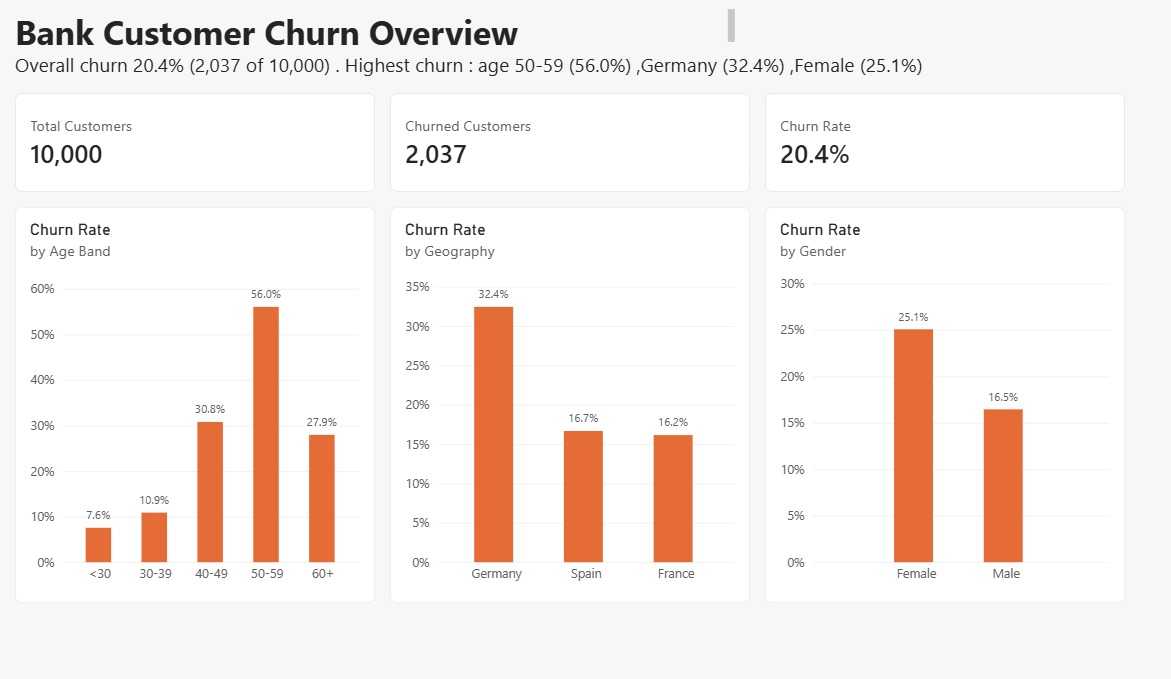

What the dashboard file says about the page in this screenshot:
{"tool":"powerbi","page":{"name":"Page 1","canvas":[1920,1080],"ordinal":0},"visuals":[{"type":"cardVisual","fields":{"Data":["Customers.Total Customers Text"]},"box":[24,110,400,110],"z":0},{"type":"cardVisual","fields":{"Data":["Customers.Churned Customers Text"]},"box":[440,110,400,110],"z":1000},{"type":"cardVisual","fields":{"Data":["Customers.Churn Rate"]},"box":[856,110,400,110],"z":2000},{"type":"clusteredColumnChart","fields":{"Category":["Customers.Age Band"],"Y":["Customers.Churn Rate"]},"box":[24,236,400,440],"z":3000},{"type":"clusteredColumnChart","fields":{"Category":["Customers.Geography"],"Y":["Customers.Churn Rate"]},"box":[440,236,400,440],"z":4000},{"type":"clusteredColumnChart","fields":{"Category":["Customers.Gender"],"Y":["Customers.Churn Rate"]},"box":[856,236,400,440],"z":5000},{"type":"textbox","box":[24,16,800,50],"z":6000},{"type":"textbox","box":[24,64,1232,36],"z":8000}]}

Visuals, with their boxes in screenshot pixels (x1, y1, x2, y2), scaled from the page's 1920x1080 canvas onto the 1171x679 screenshot:
cardVisual - Customers.Total Customers Text: [15,69,259,138]
cardVisual - Customers.Churned Customers Text: [268,69,512,138]
cardVisual - Customers.Churn Rate: [522,69,766,138]
clusteredColumnChart - Customers.Age Band x Customers.Churn Rate: [15,148,259,425]
clusteredColumnChart - Customers.Geography x Customers.Churn Rate: [268,148,512,425]
clusteredColumnChart - Customers.Gender x Customers.Churn Rate: [522,148,766,425]
textbox: [15,10,503,41]
textbox: [15,40,766,63]
